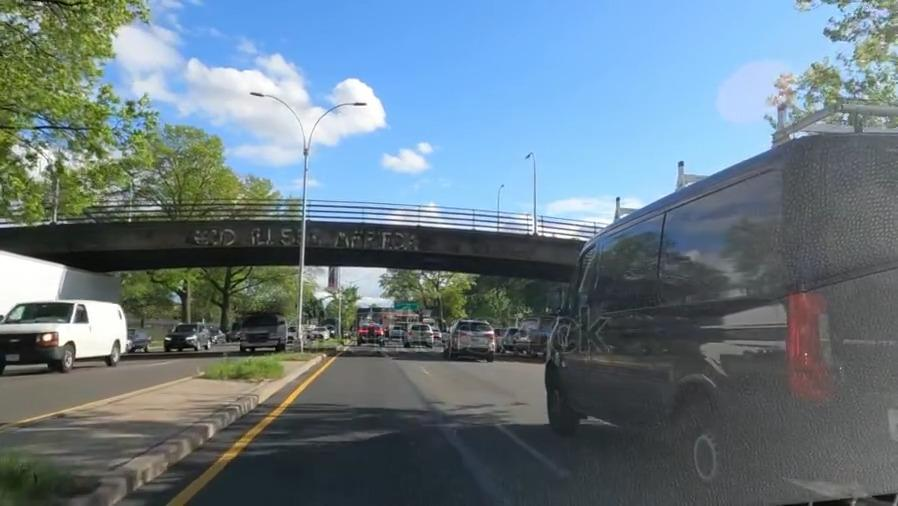car: (446, 320, 491, 359), (162, 323, 213, 353), (401, 319, 432, 351), (357, 321, 383, 347)
van: (525, 178, 898, 427), (8, 299, 129, 369), (236, 311, 285, 352)
wheel: (664, 399, 740, 501), (542, 366, 575, 432)
